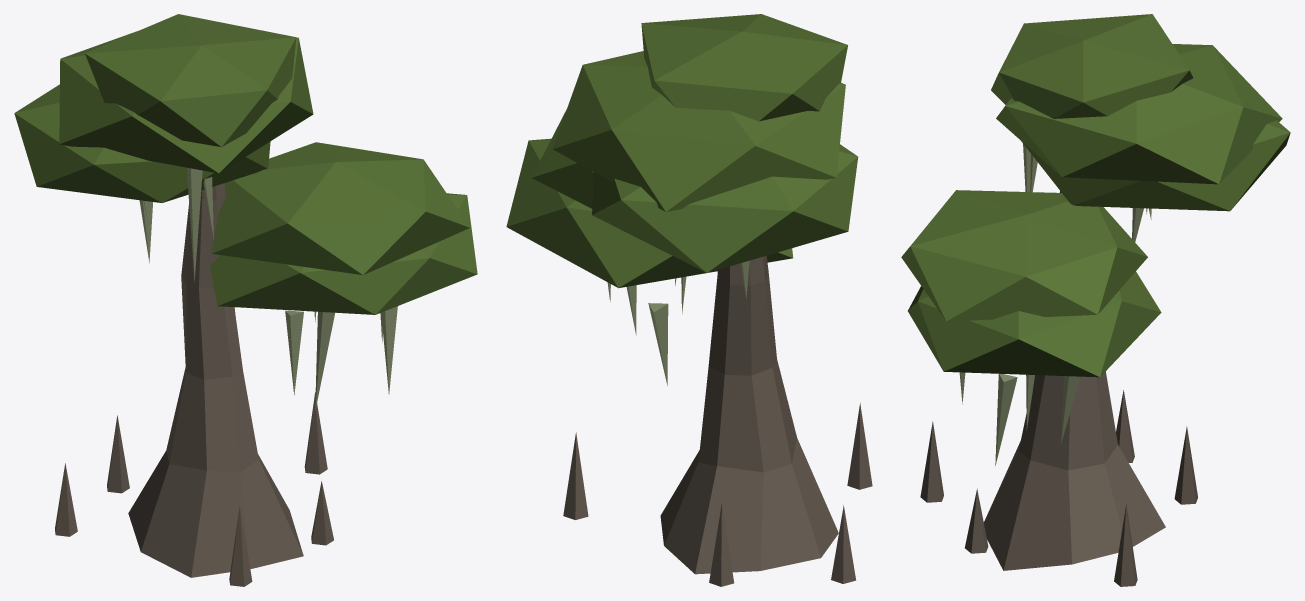
The model's file is Tree_Cypress_C.glb.
The picture shows the model from 3 angles, left to right: view 1: azimuth 30°, elevation 25°; view 2: azimuth 150°, elevation 25°; view 3: azimuth 270°, elevation 25°; orthographic projection. The views are drawn at different scales.
Visible parts, largest first — view 1: Tree_Cypress_C; view 2: Tree_Cypress_C; view 3: Tree_Cypress_C.
Part boxes in pixels (<box>): Tree_Cypress_C: <box>14,14,477,586</box>; Tree_Cypress_C: <box>506,14,872,586</box>; Tree_Cypress_C: <box>901,14,1290,586</box>.
Bounding box in the file's own units: 3.37 × 4.37 × 3.09.
